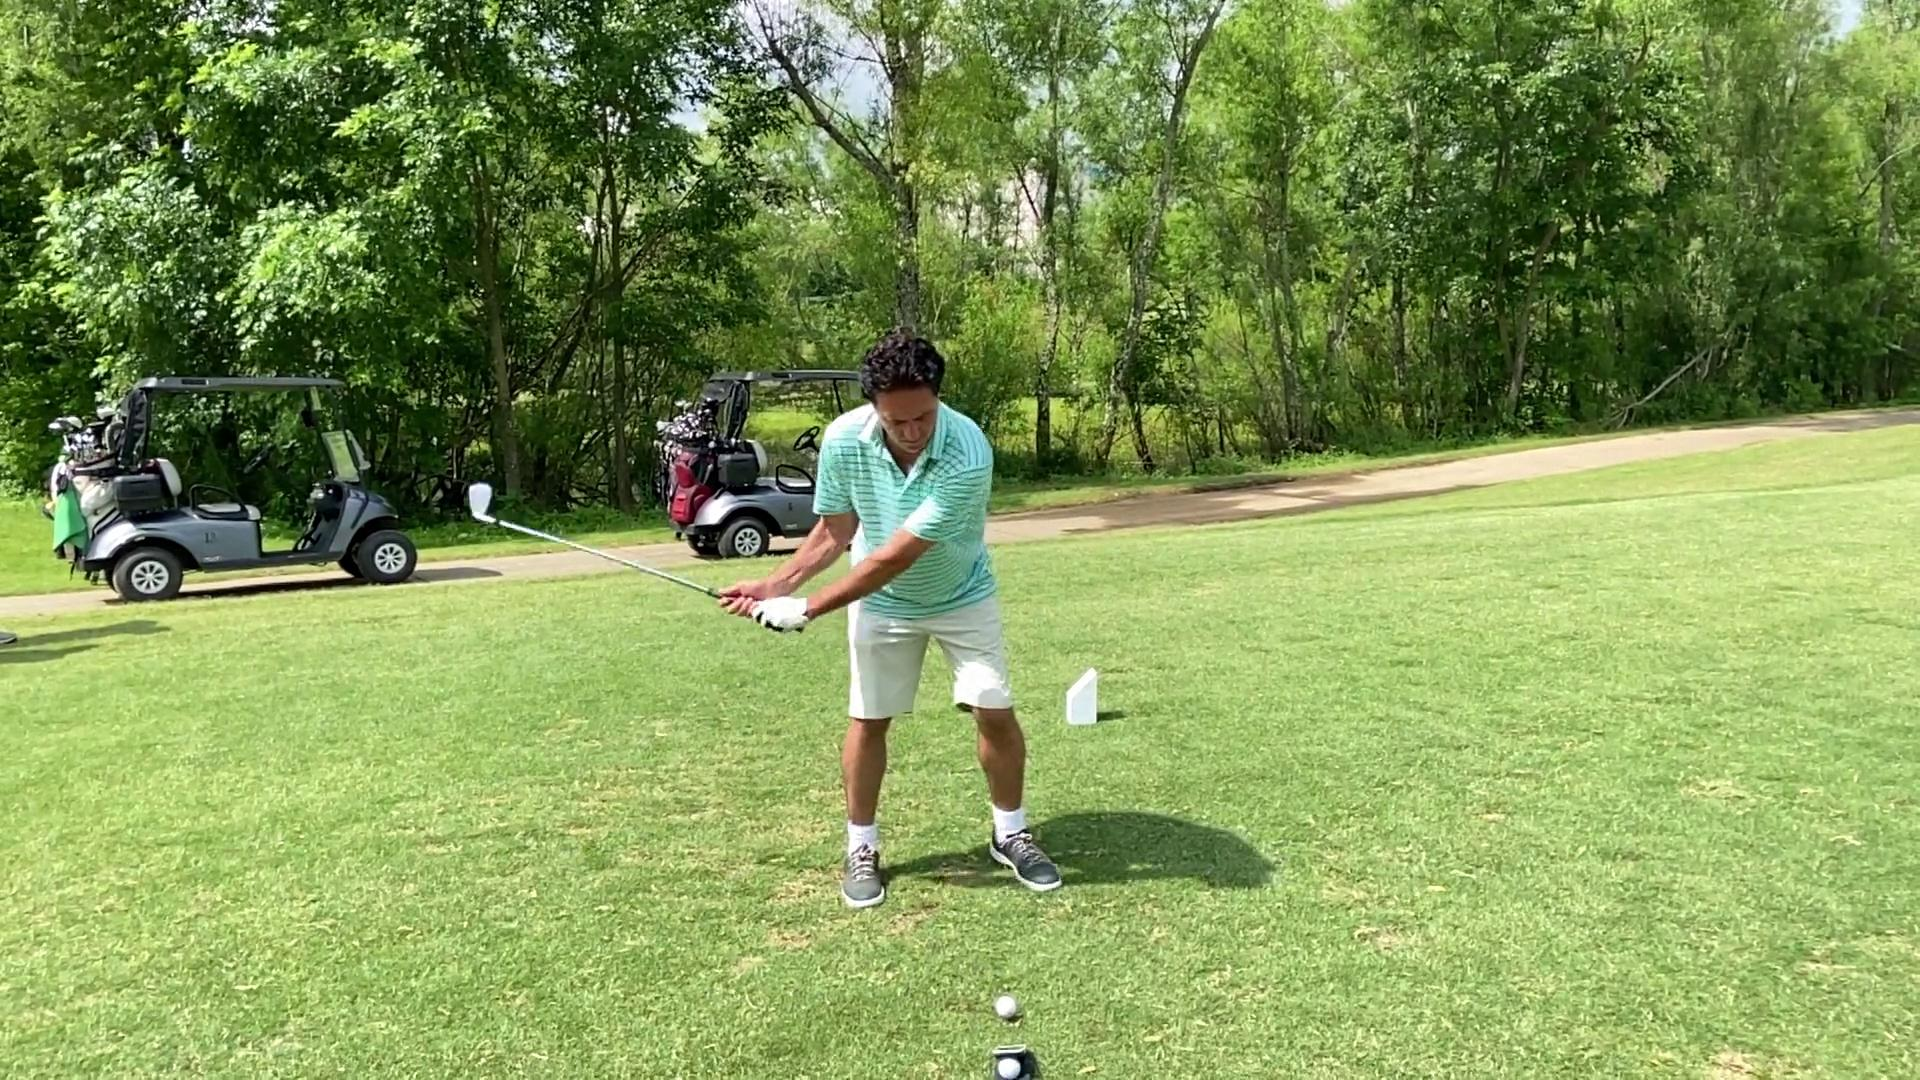ClubHead: (465, 476, 502, 531)
